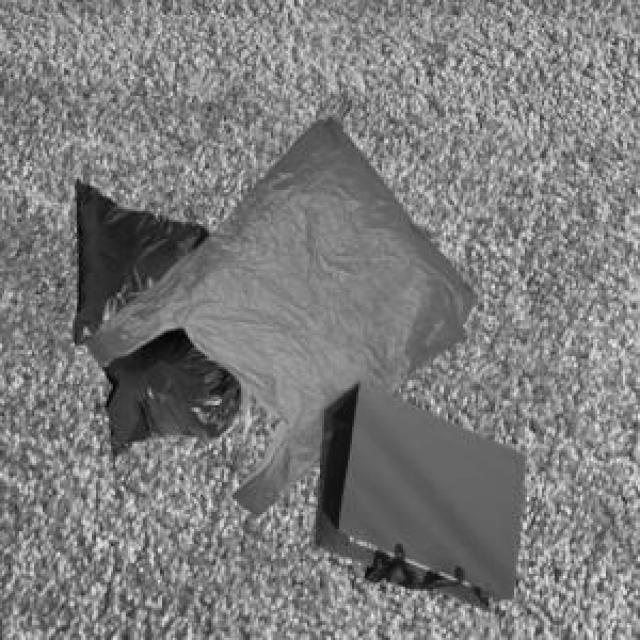miscellaneous trash: (70, 175, 248, 450)
paper: (312, 378, 521, 606)
